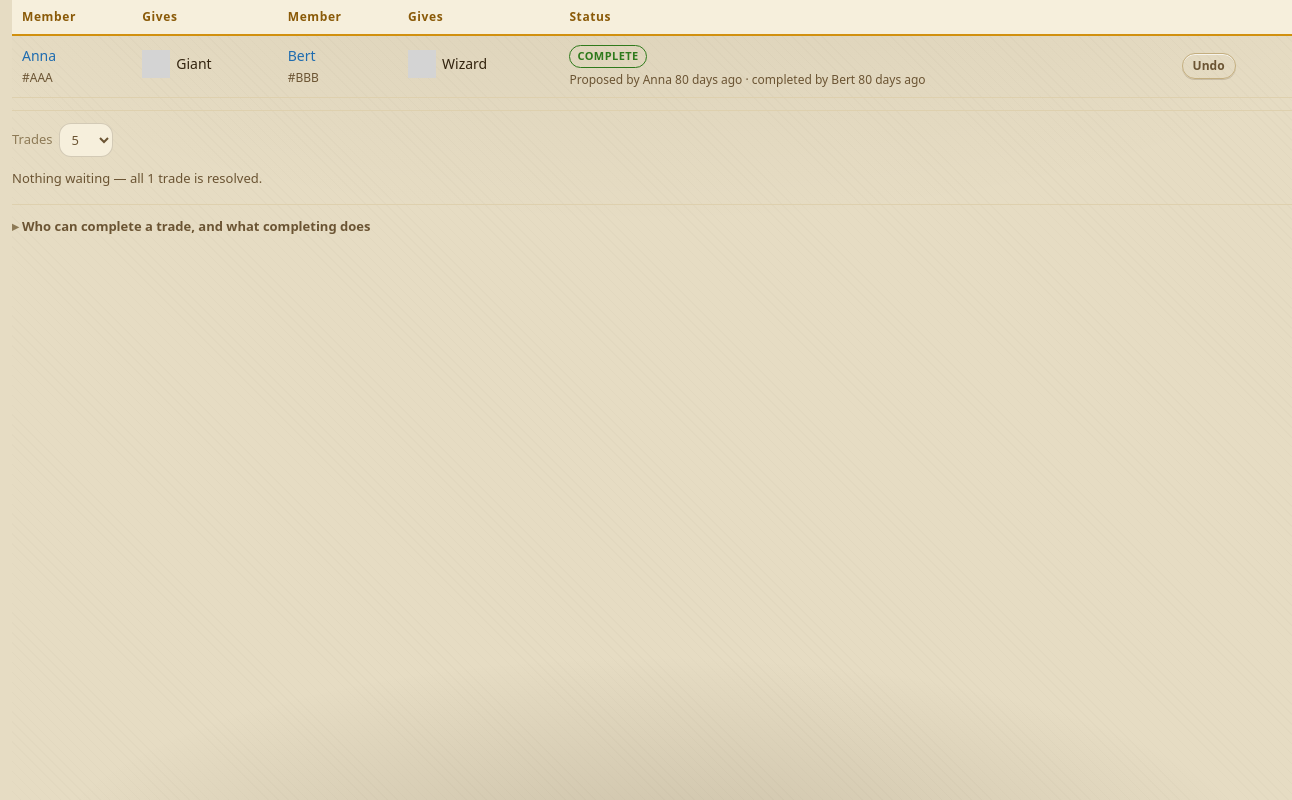
Scenario: UndoAction.act — undoing a completed trade › falls back to the generic message for a failure with no message of its own
Expected: the table named "Trade tracker" is shown, [12,0,1291,98]
What coordinates should you click on to do the following:
click the button "Undo"
I would click on:
 (1209, 66)
Its box is [1182,53,1236,79].
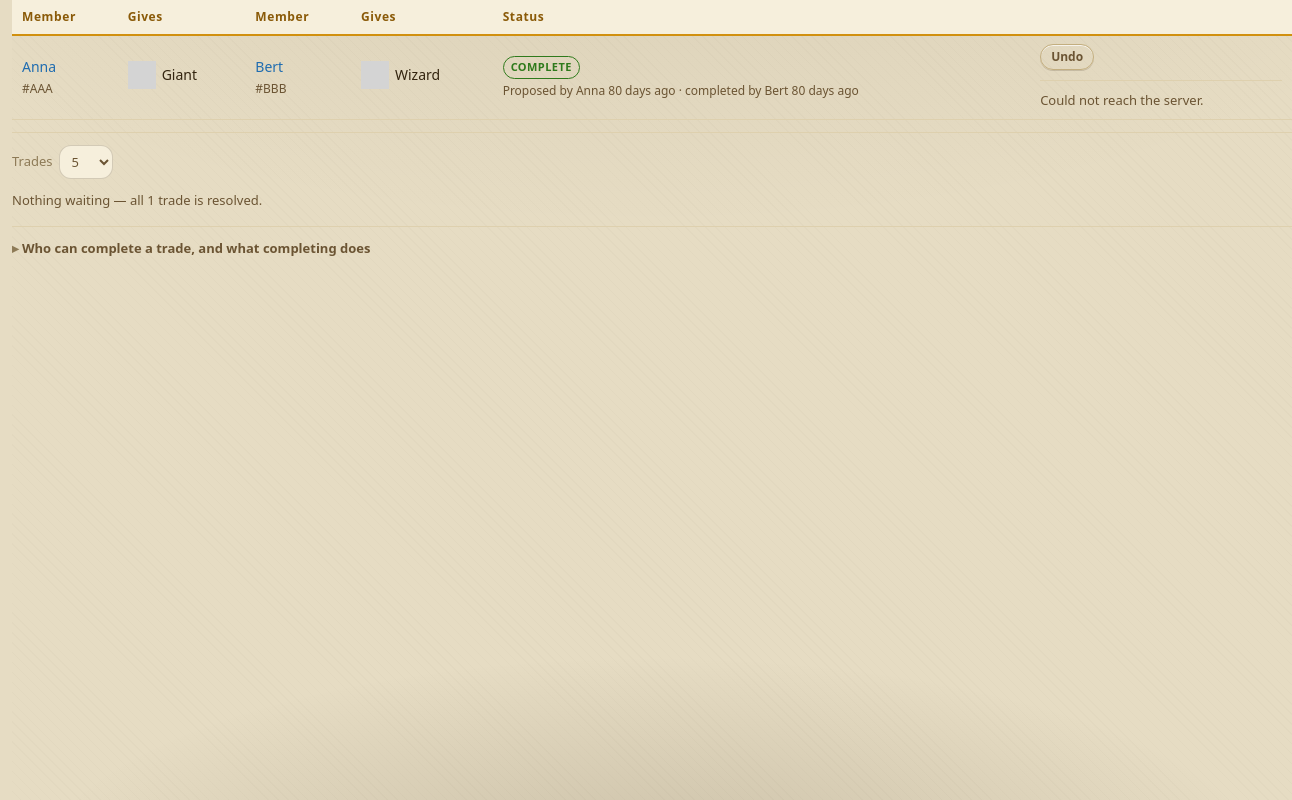
Expected: the text "Could not reach the server." is shown, [1040,80,1282,110]
